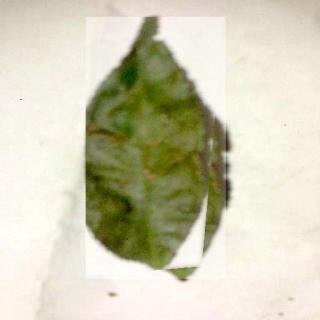Red Leaf Spot: (87, 18, 228, 280)
